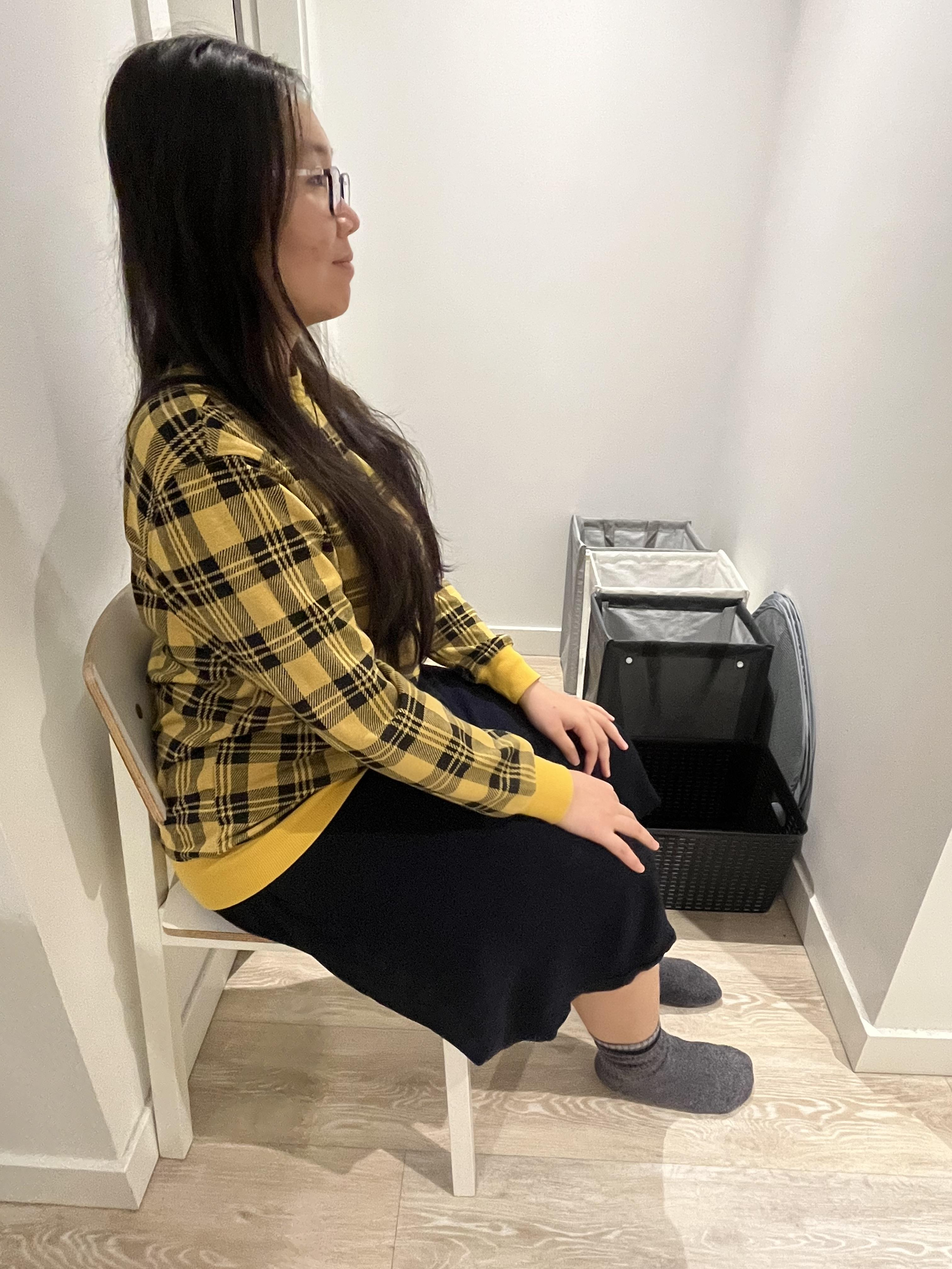GoodPosture: (100, 40, 755, 1101)
